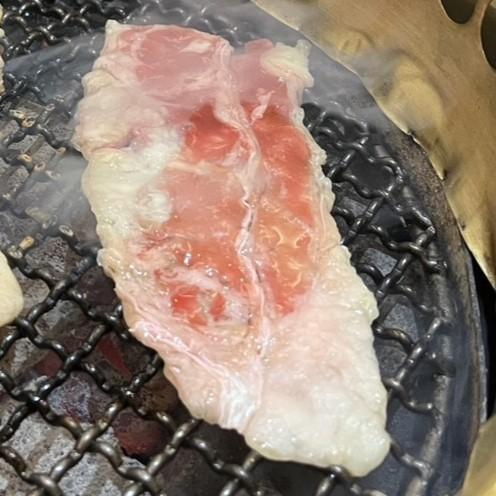Undercooked: (73, 21, 390, 476)
